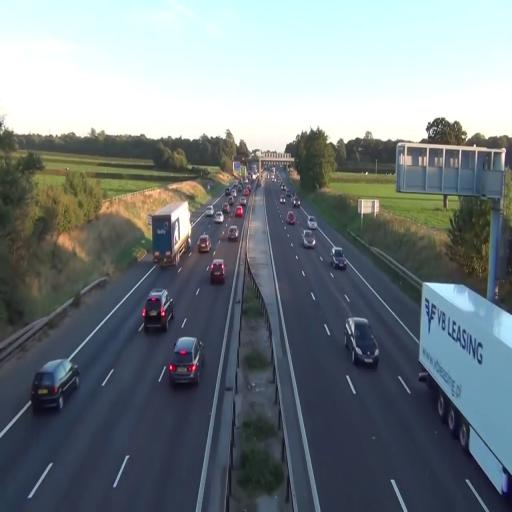vehicle: (30, 358, 80, 414), (150, 201, 191, 268), (344, 317, 380, 369), (168, 335, 204, 386), (142, 290, 174, 332), (208, 258, 226, 285), (332, 247, 346, 271), (223, 224, 240, 242), (198, 234, 212, 255), (302, 230, 316, 248), (214, 208, 224, 224)
